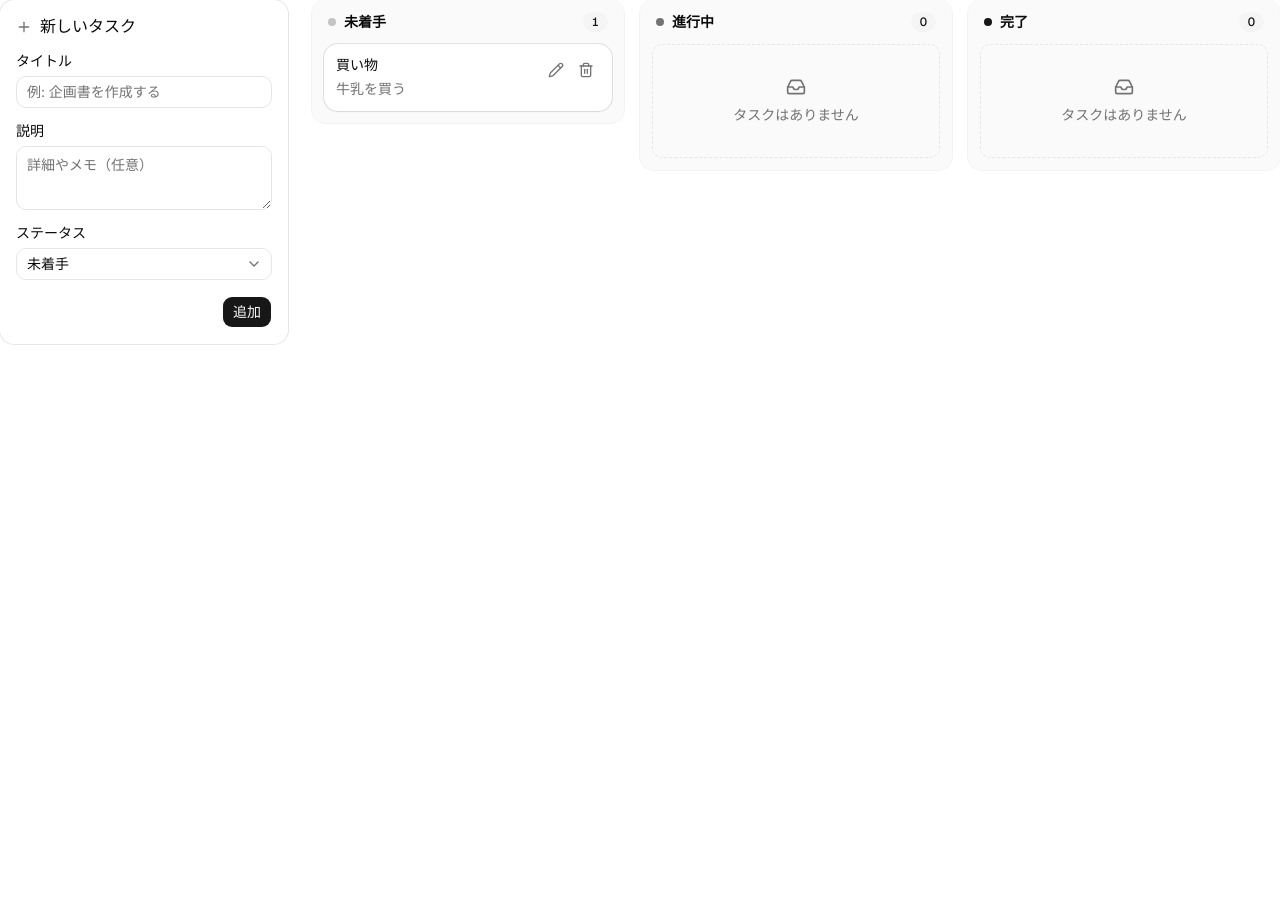
Test: タスクの削除 › 確認ダイアログで削除を確定すると、タスクが一覧からすぐ消える
Click the button named "削除": [586, 70] box [572,56,600,84]
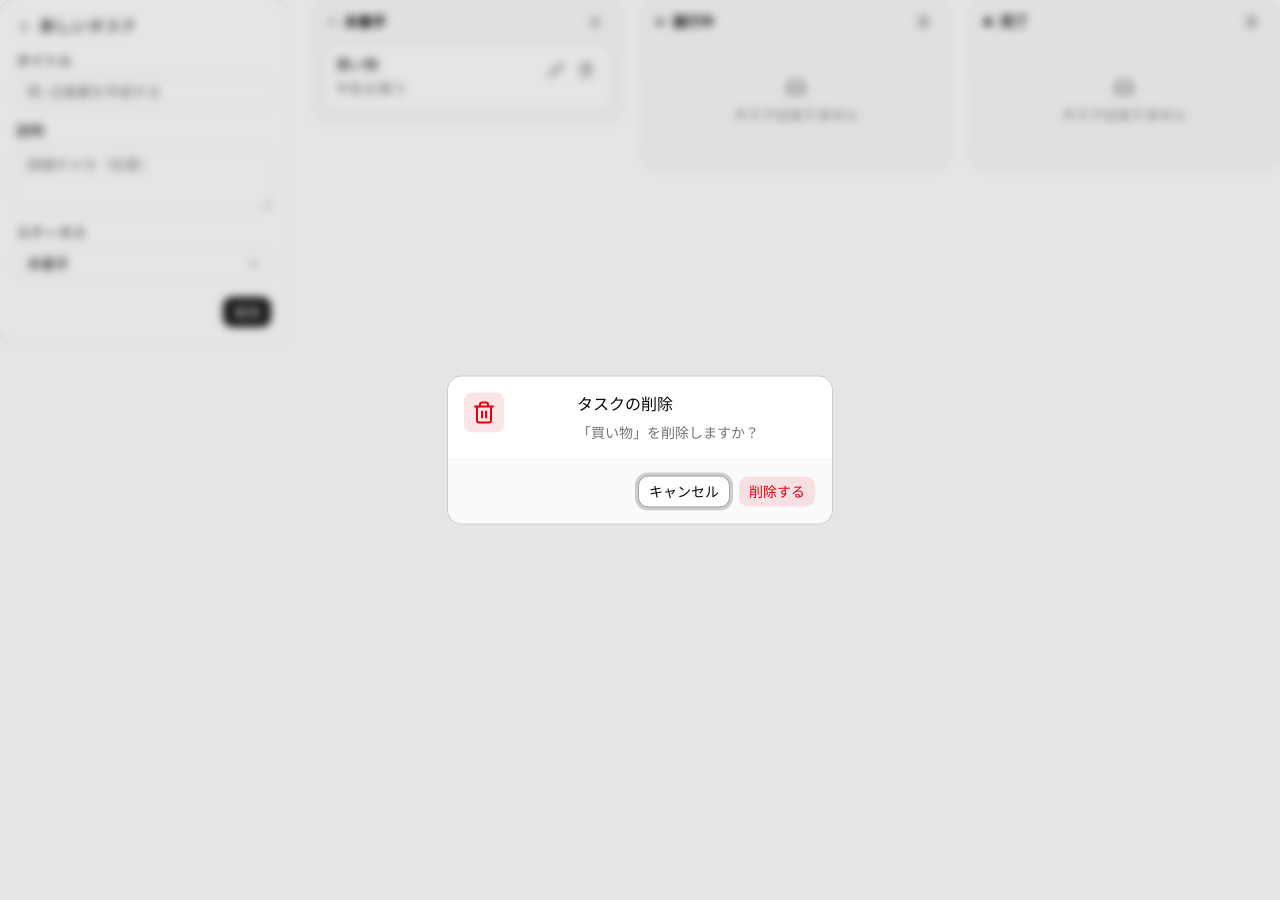
Click the button "削除する": [777, 492] box [738,476,816,508]
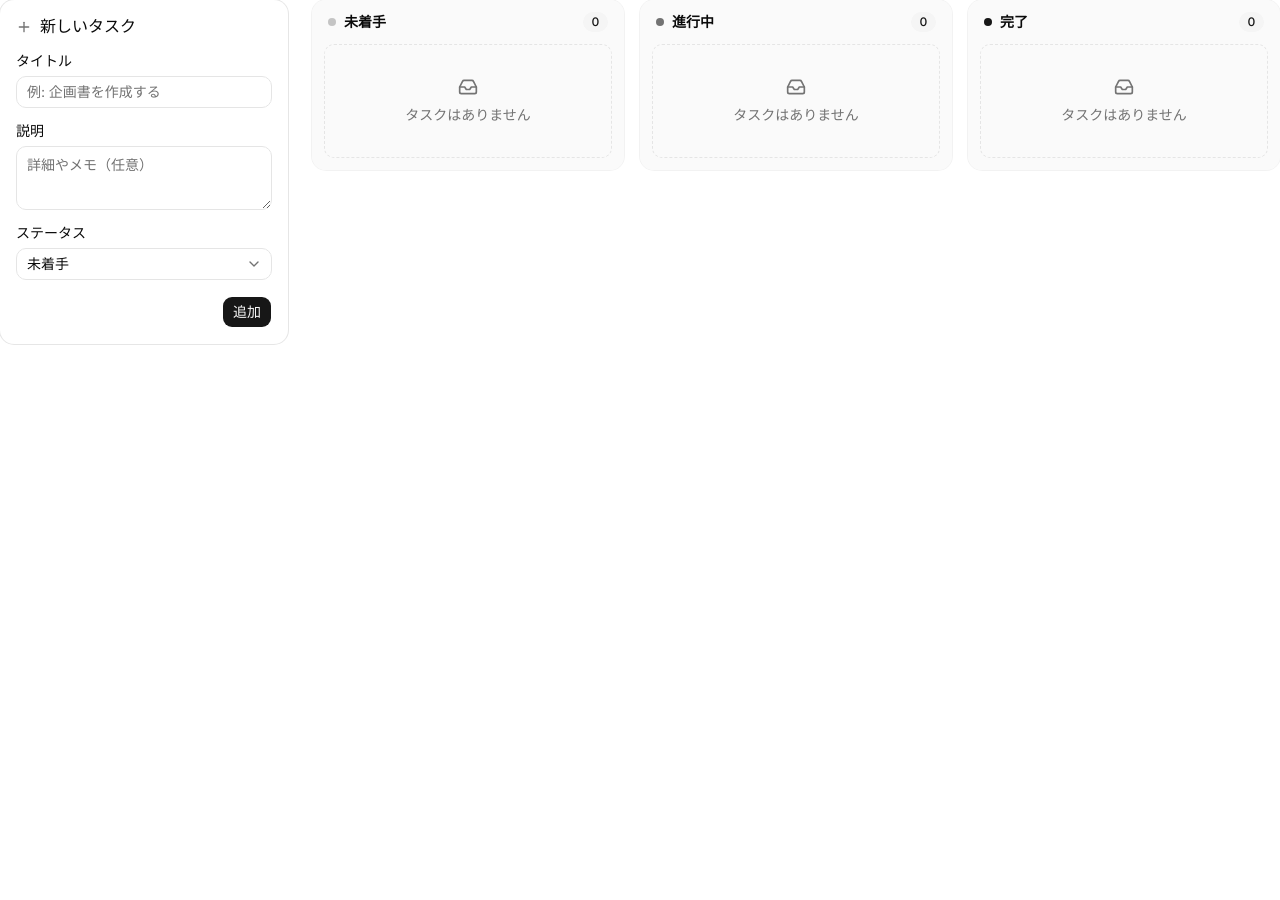
Result: the dialog is gone
Result: the text "買い物" is gone
Result: the text "タスクはありません" below "未着手" is shown at [405,106,531,124]
